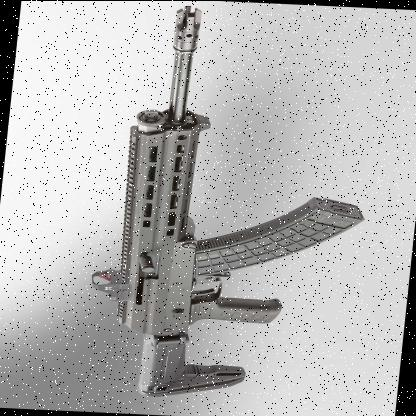rifle: (91, 1, 377, 411)
